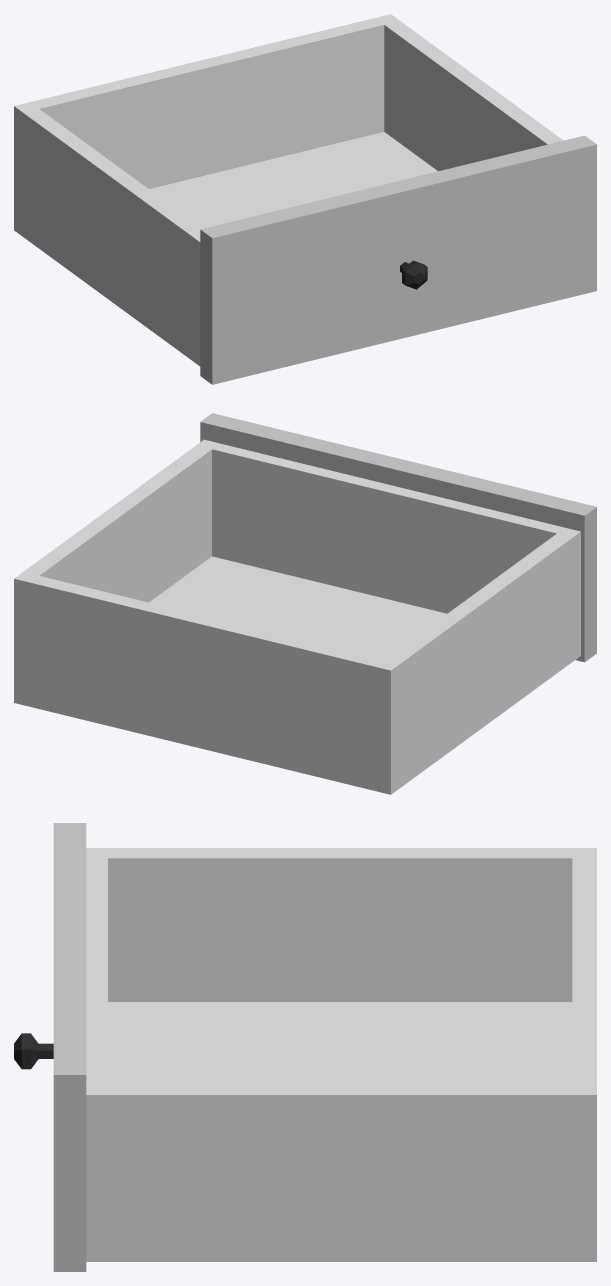
The model's file is BedTable3_C3_02.fbx.
3 views of the same model, one above another, from view 1: azimuth 30°, elevation 25°; view 2: azimuth 150°, elevation 25°; view 3: azimuth 270°, elevation 25° (orthographic). The views are drawn at different scales.
Parts seen in each view (by area): view 1: BedTable3_C3_02; view 2: BedTable3_C3_02; view 3: BedTable3_C3_02.
Part boxes in pixels (<box>): BedTable3_C3_02: <box>14,14,596,384</box>; BedTable3_C3_02: <box>14,413,596,794</box>; BedTable3_C3_02: <box>14,823,596,1271</box>.
Bounding box in the file's own units: 36.44 × 13.27 × 35.61.
